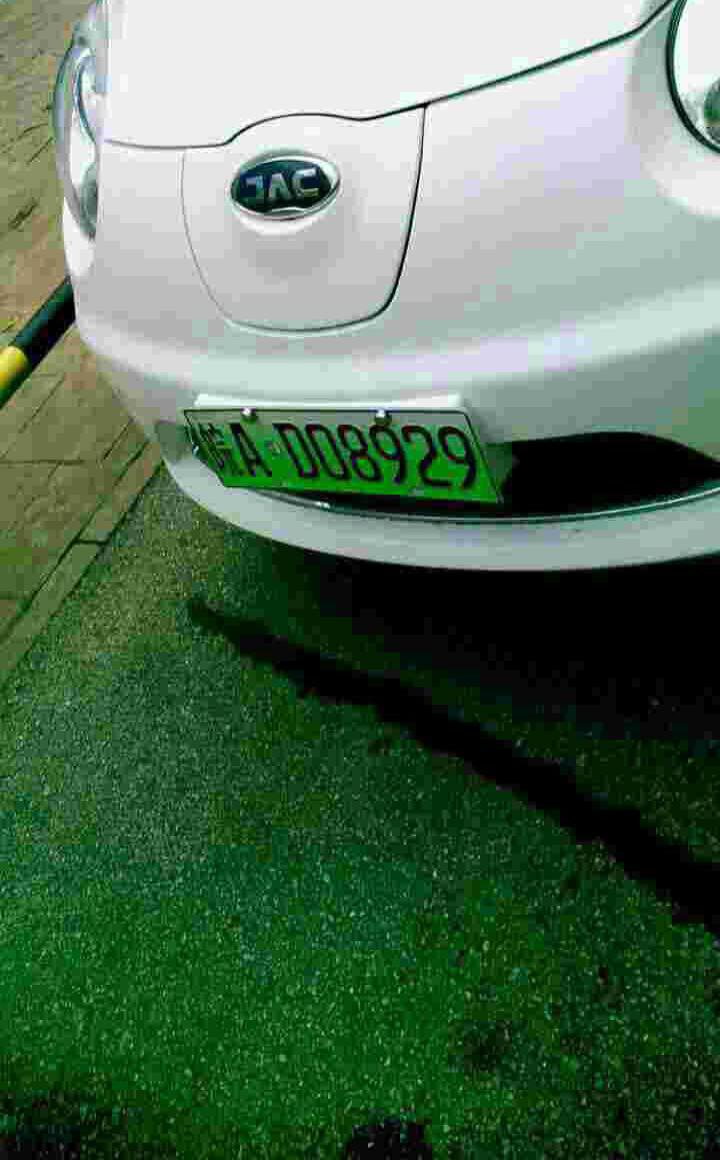car_id: (179, 408, 506, 500)
